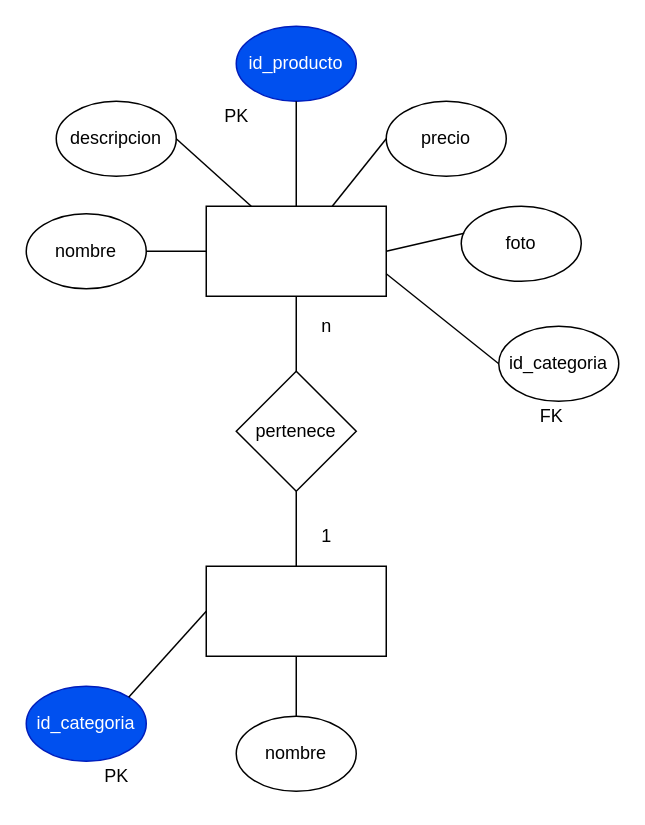
Some shapes in this 645 by 825 pixel diagram are drawn without their labels. Each missing label, with the box of its shape:
Categorias: (205, 565, 386, 656)
Productos: (205, 205, 386, 296)
